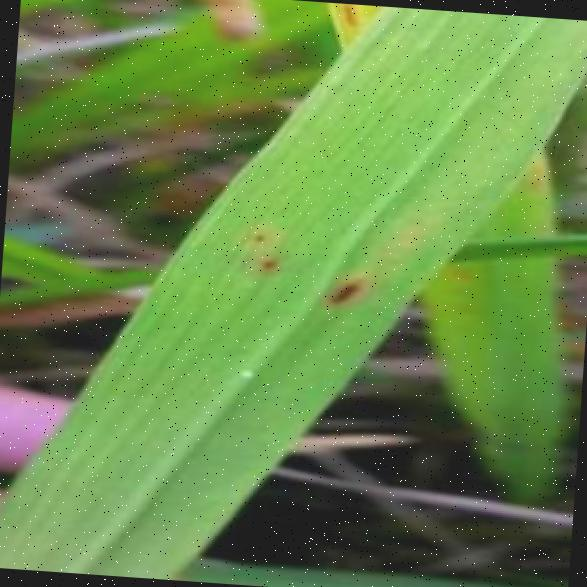Brown_Spot: (312, 264, 376, 314), (248, 245, 289, 275), (244, 225, 269, 246)
